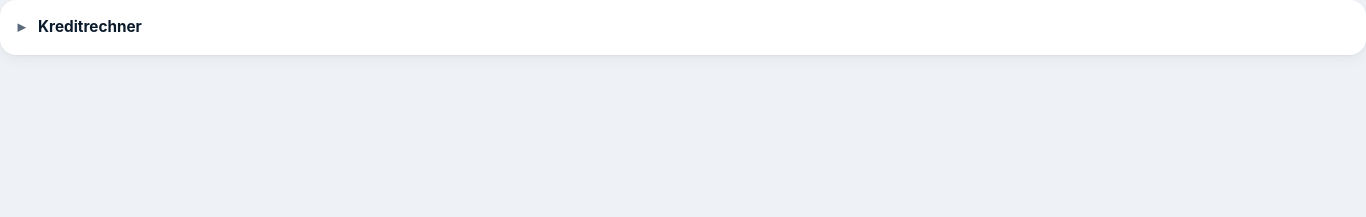
Test case: Kreditrechner (Finanzen) › ist der Plan gedeckt, braucht es eine eigene Summe
Click the button "▸ Kreditrechner": (80, 27) [18, 16, 142, 39]
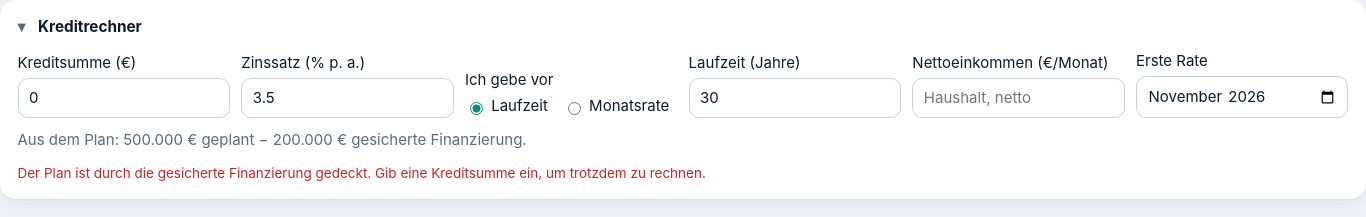
expect the text "Plan ist durch die gesicherte Finanzierung gedeckt" is shown: met, box [18, 165, 706, 181]
